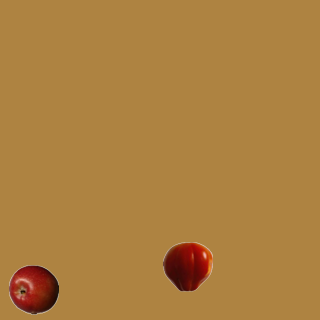Apple Braeburn: (8, 264, 58, 314)
Tomato 1: (162, 241, 212, 291)
